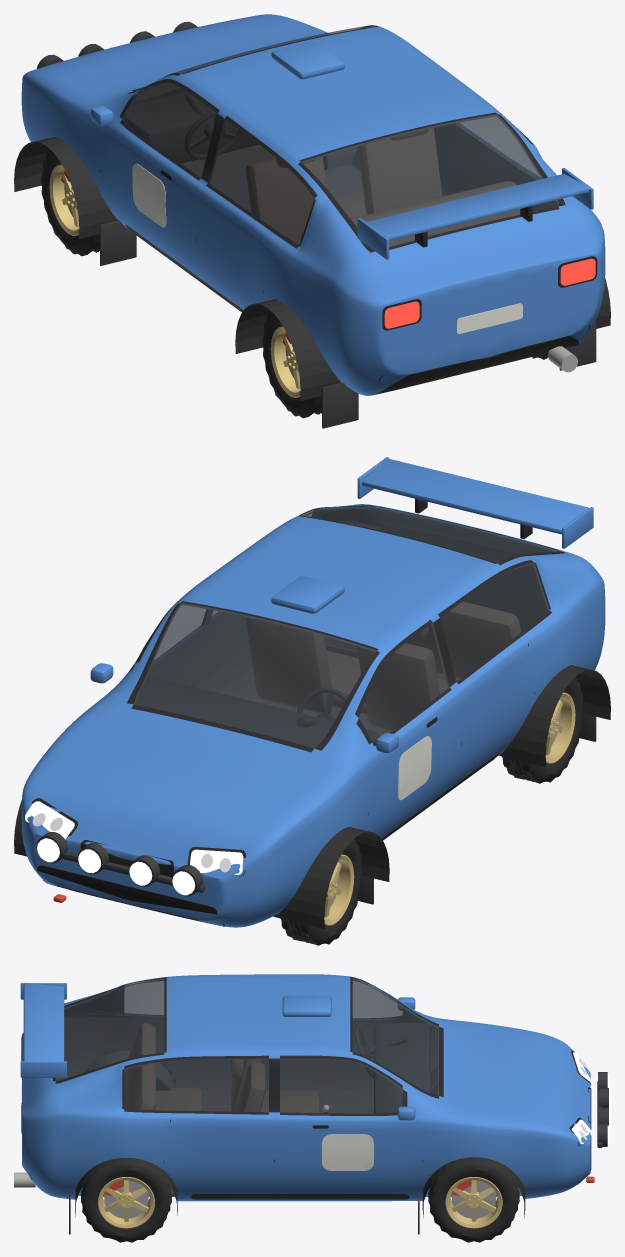
File: 07_gravelo_rs.glb
3 renders of one model, top to bottom at view 1: azimuth 30°, elevation 25°; view 2: azimuth 150°, elevation 25°; view 3: azimuth 270°, elevation 25°, orthographic. The views are drawn at different scales.
Visible parts, largest first — view 1: Body.012, Glass.012, Interior.012, ArchLiners.011, Interior_Shell.011, Wing.001, Wheel_RL.012, Wheel_FL.012, Mudflap_Rear, Roof_Vent, Door_Panel, Lights_Tail.012 (+5 smaller); view 2: Body.012, Glass.012, Interior.012, Interior_Shell.011, ArchLiners.011, Wing.001, Wheel_FL.012, Wheel_RL.012, Intake_Lower.002, Roof_Vent, Door_Panel, Lights_Head.012 (+7 smaller); view 3: Body.012, Glass.012, Interior_Shell.011, Interior.012, Wheel_FR.012, Wheel_RR.012, Wing.001, ArchLiners.011, Door_Panel, SideSkirt.005, Roof_Vent, Wing_Endplate (+4 smaller).
Boxes of the visible parts, bbox=[...] form: Body.012: bbox=[21, 14, 605, 395]; Glass.012: bbox=[122, 25, 558, 246]; Interior.012: bbox=[124, 91, 520, 246]; ArchLiners.011: bbox=[14, 136, 610, 400]; Interior_Shell.011: bbox=[122, 82, 558, 211]; Wing.001: bbox=[366, 174, 589, 240]; Wheel_RL.012: bbox=[262, 312, 321, 418]; Wheel_FL.012: bbox=[40, 150, 99, 256]; Mudflap_Rear: bbox=[322, 321, 596, 428]; Roof_Vent: bbox=[271, 41, 344, 79]; Door_Panel: bbox=[132, 163, 166, 227]; Lights_Tail.012: bbox=[384, 258, 595, 328]; Body.012: bbox=[21, 504, 605, 927]; Glass.012: bbox=[132, 506, 558, 748]; Interior.012: bbox=[135, 601, 520, 748]; Interior_Shell.011: bbox=[134, 506, 556, 704]; ArchLiners.011: bbox=[14, 644, 610, 929]; Wing.001: bbox=[362, 458, 589, 534]; Wheel_FL.012: bbox=[280, 839, 362, 945]; Wheel_RL.012: bbox=[502, 677, 584, 783]; Intake_Lower.002: bbox=[37, 865, 224, 926]; Roof_Vent: bbox=[271, 576, 344, 613]; Door_Panel: bbox=[397, 736, 431, 800]; Lights_Head.012: bbox=[25, 801, 243, 874]; Body.012: bbox=[22, 974, 590, 1201]; Glass.012: bbox=[55, 977, 438, 1113]; Interior_Shell.011: bbox=[55, 979, 438, 1197]; Interior.012: bbox=[124, 1023, 430, 1196]; Wheel_FR.012: bbox=[428, 1164, 519, 1242]; Wheel_RR.012: bbox=[81, 1164, 171, 1242]; Wing.001: bbox=[23, 983, 64, 1061]; ArchLiners.011: bbox=[75, 1078, 525, 1218]; Door_Panel: bbox=[322, 1134, 373, 1170]; SideSkirt.005: bbox=[191, 1193, 409, 1199]; Roof_Vent: bbox=[282, 995, 331, 1016]; Wing_Endplate: bbox=[20, 983, 66, 1077].
Size of what is drawn, in the model's own units: 2.07 by 1.53 by 4.38.
